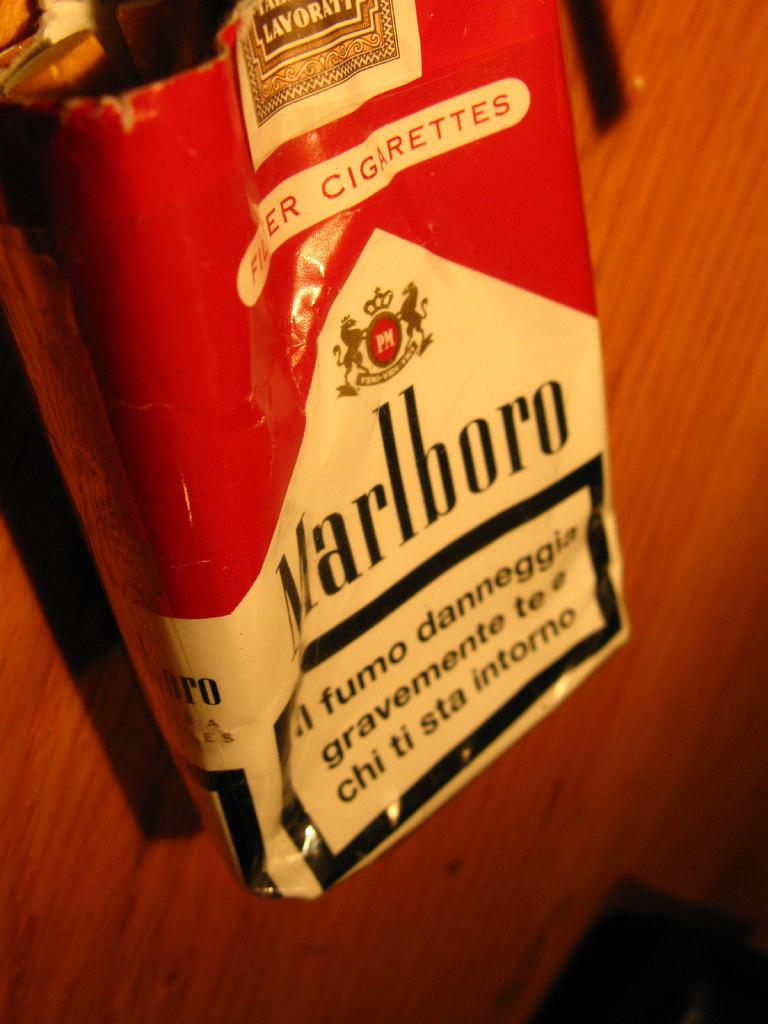marlboro_red: (190, 22, 573, 830)
